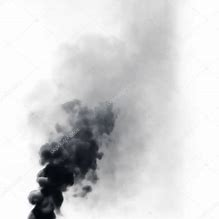smoke: (26, 98, 117, 219)
